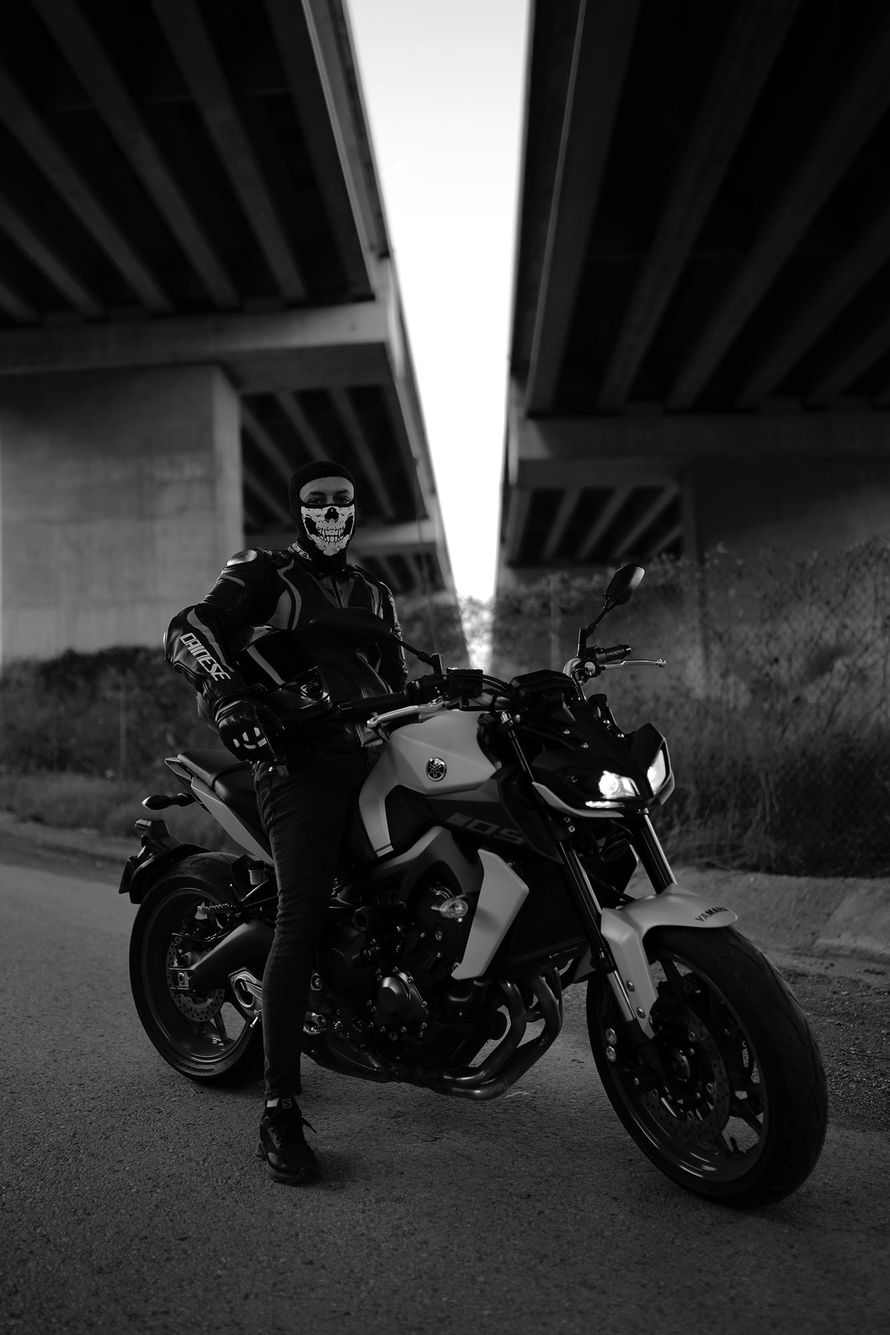helmet: (195, 620, 334, 742)
nohelmet: (287, 459, 358, 568)
